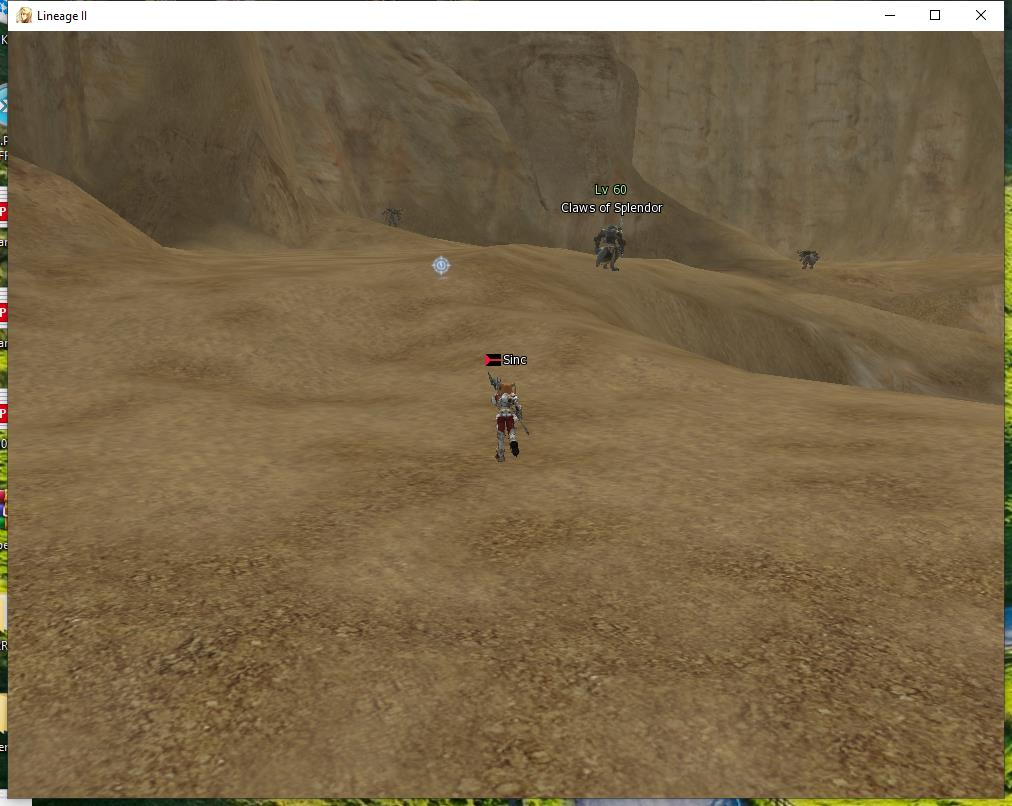monster: (566, 181, 643, 278), (380, 196, 425, 238), (795, 237, 823, 272)
